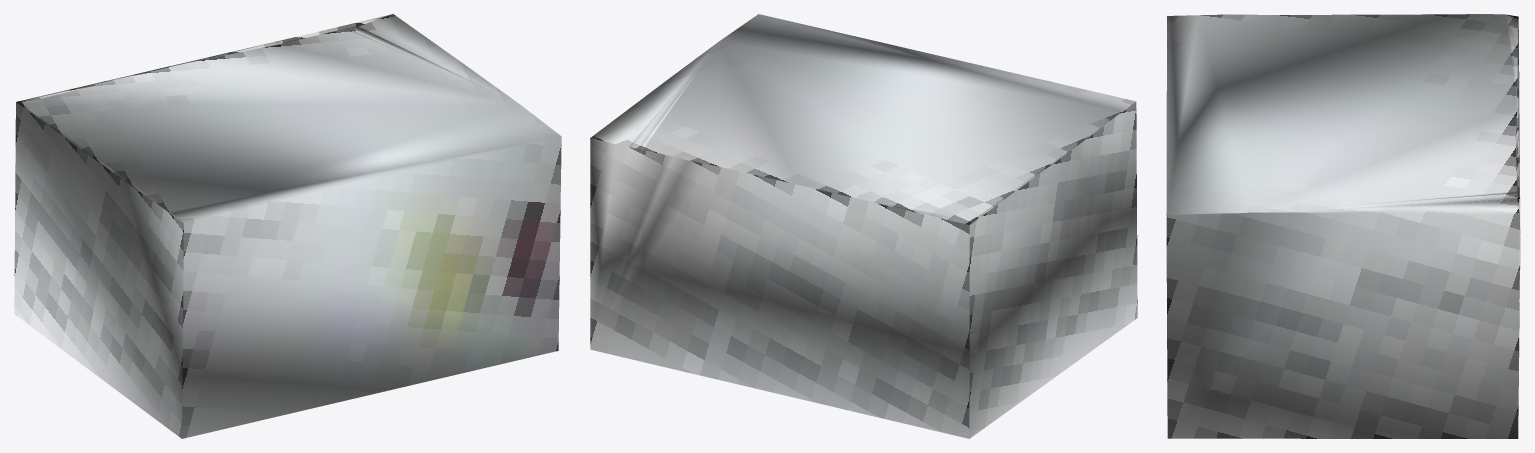
The model's file is Perricone_MD_Skin_Clear_Supplements-low.glb.
3 views of the same model, side by side, from view 1: azimuth 30°, elevation 25°; view 2: azimuth 150°, elevation 25°; view 3: azimuth 270°, elevation 25° (orthographic). The views are drawn at different scales.
Parts seen in each view (by area): view 1: Perricone_MD_Skin_Clear_Supplements; view 2: Perricone_MD_Skin_Clear_Supplements; view 3: Perricone_MD_Skin_Clear_Supplements.
Part boxes in pixels (x1,y1,x2,y2): Perricone_MD_Skin_Clear_Supplements: [14, 14, 561, 438]; Perricone_MD_Skin_Clear_Supplements: [590, 14, 1137, 438]; Perricone_MD_Skin_Clear_Supplements: [1166, 14, 1520, 438].
Bounding box in the file's own units: 0.1659 × 0.0922 × 0.1275.
1 material, 1 textured.
